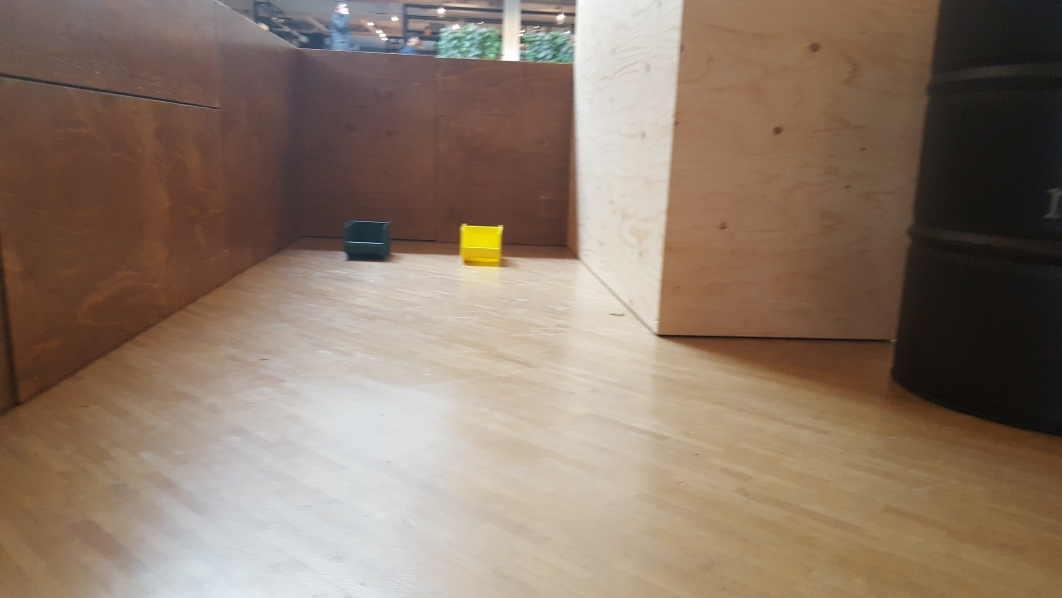tray: (340, 213, 393, 261), (453, 221, 507, 260)
